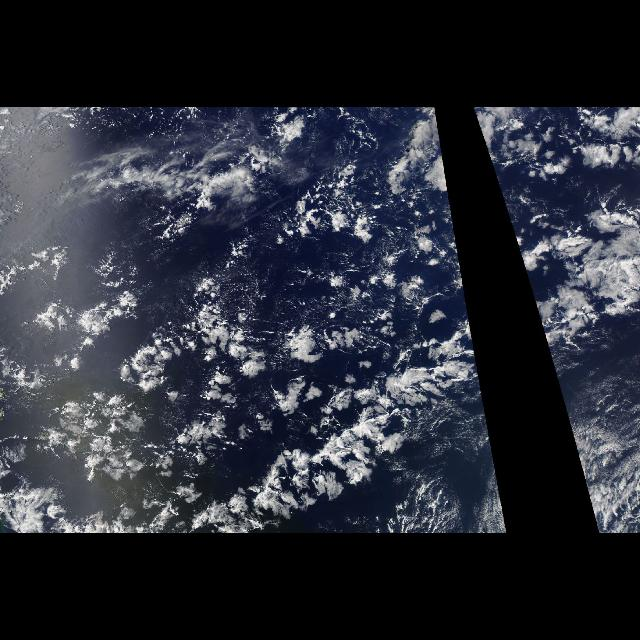Fish: (212, 328, 474, 530)
Flower: (19, 111, 478, 531), (474, 111, 636, 335)
Gravel: (26, 321, 208, 479), (244, 174, 372, 258)
Sugar: (1, 108, 462, 356), (556, 358, 640, 514)
